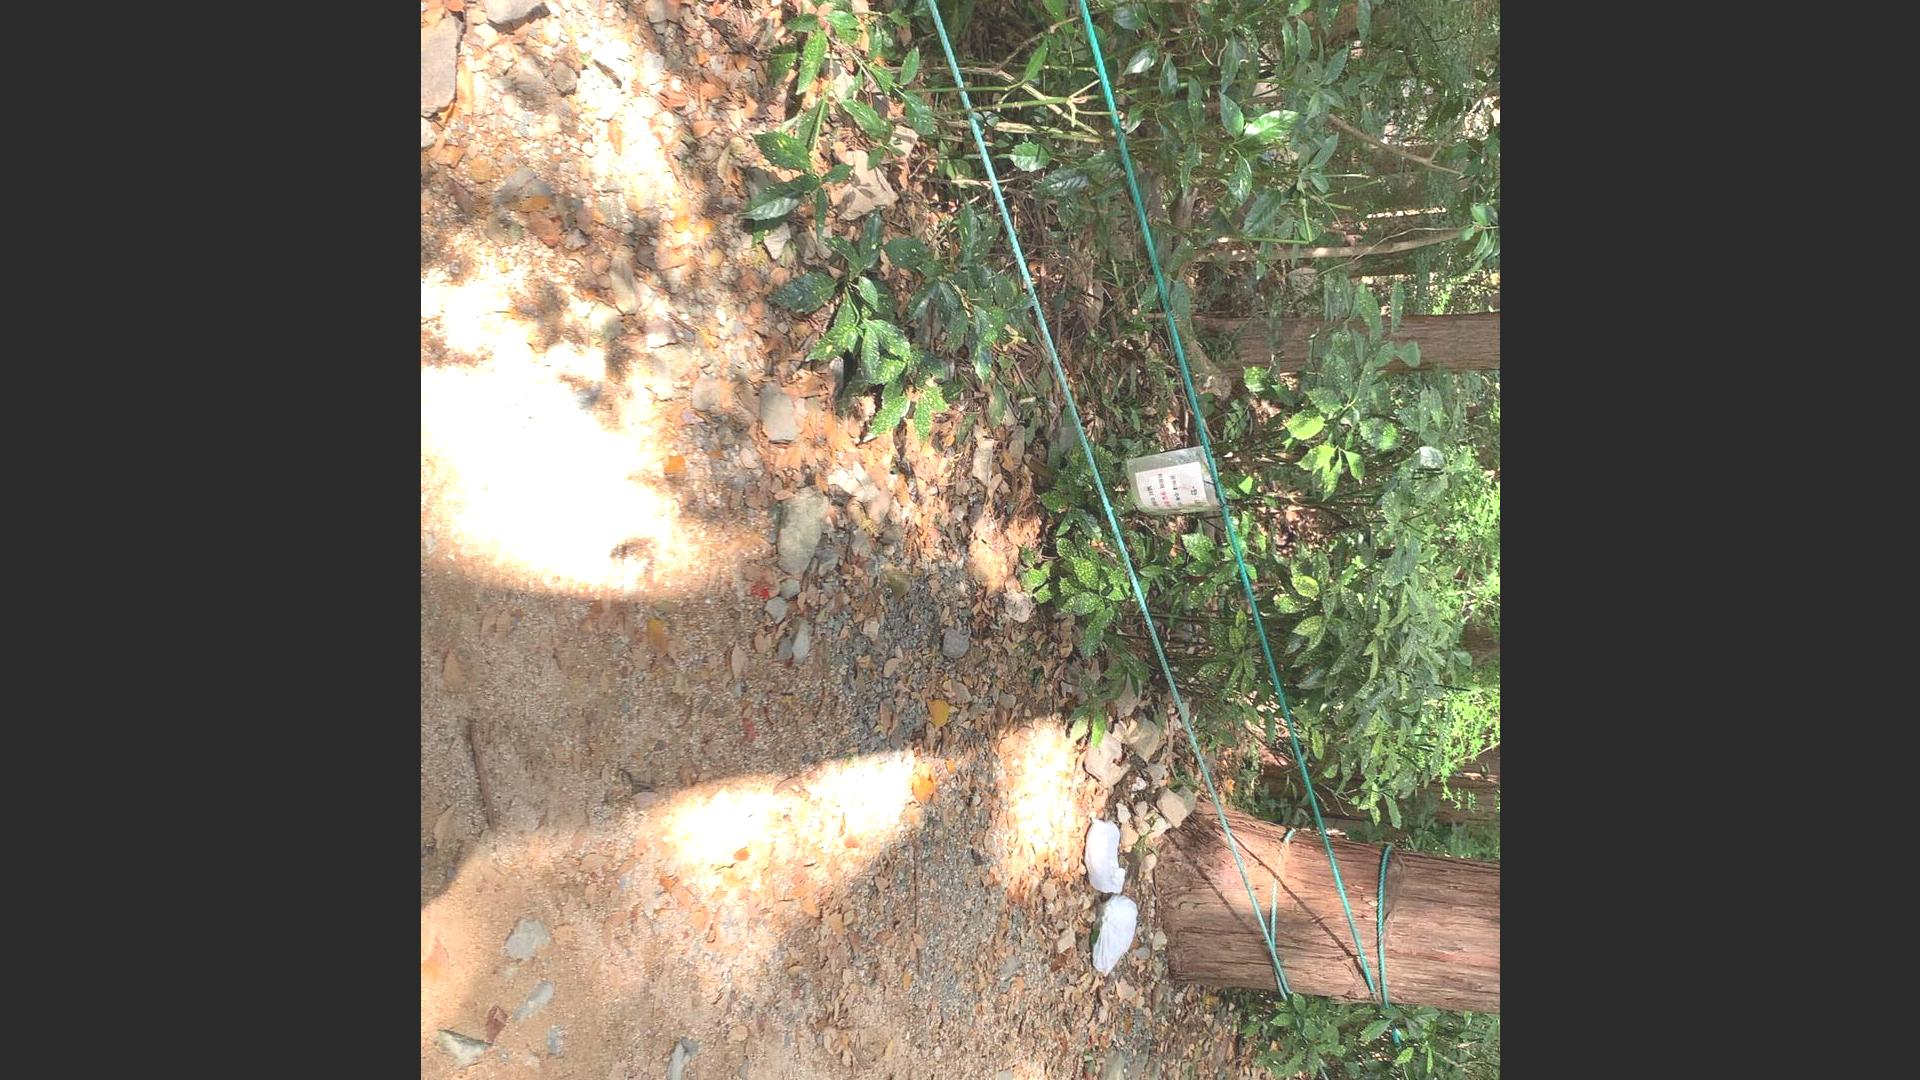white_bag: (1085, 887, 1142, 980), (1084, 810, 1127, 898)
